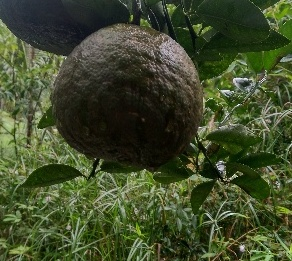Cam: (50, 21, 205, 171)
